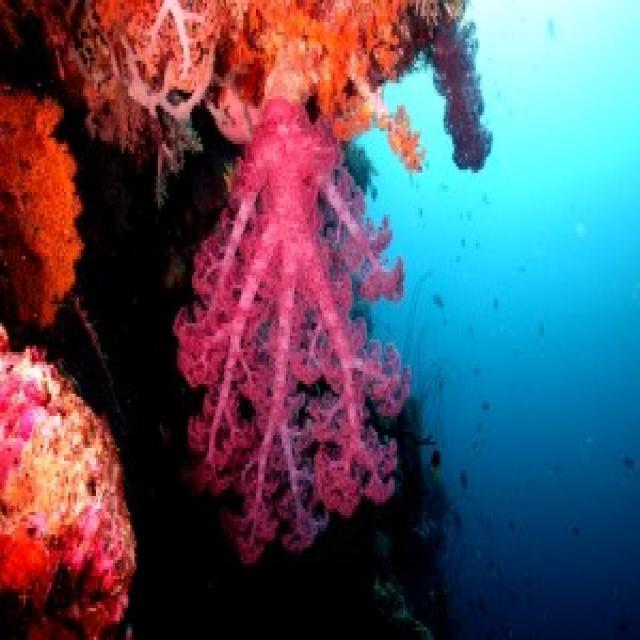Healthy: (170, 101, 423, 564), (1, 320, 137, 640)
